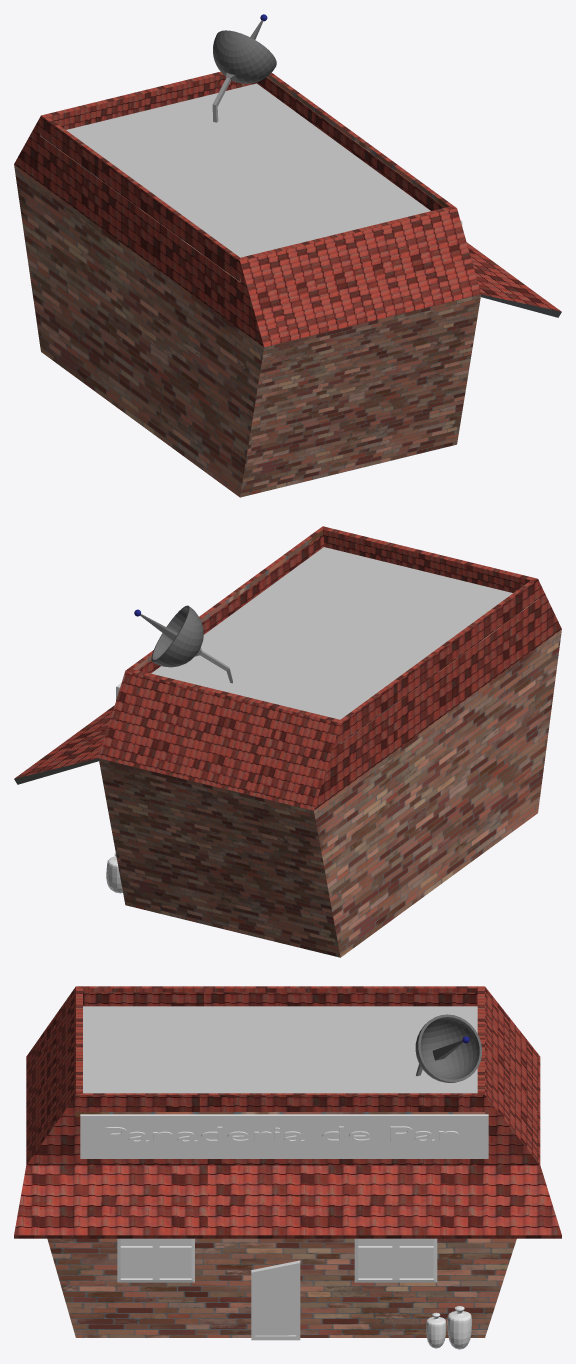
The model's file is panaderiaExterior.fbx.
3 views of the same model, one above another, from view 1: azimuth 30°, elevation 25°; view 2: azimuth 150°, elevation 25°; view 3: azimuth 270°, elevation 25° (orthographic). The views are drawn at different scales.
Visible parts, largest first — view 1: Cubo, Cubo.004, Cube.003; view 2: Cubo, Cubo.004, Cube.003; view 3: Cubo, Cubo.004, Plano, Cubo.001, Cubo.023, Cube.003, Cubo.002, Texto, Cubo.010, Cubo.003.
Part boxes in pixels (bbox=[...]): Cubo: bbox=[14, 71, 561, 347]; Cubo.004: bbox=[14, 164, 480, 497]; Cube.003: bbox=[212, 14, 276, 122]; Cubo: bbox=[14, 526, 561, 810]; Cubo.004: bbox=[98, 629, 561, 957]; Cube.003: bbox=[134, 605, 232, 683]; Cubo: bbox=[14, 986, 561, 1238]; Cubo.004: bbox=[47, 1238, 516, 1337]; Plano: bbox=[80, 1114, 488, 1158]; Cubo.001: bbox=[251, 1260, 300, 1340]; Cubo.023: bbox=[354, 1238, 437, 1282]; Cube.003: bbox=[415, 1014, 481, 1082]; Cubo.002: bbox=[117, 1238, 194, 1282]; Texto: bbox=[104, 1126, 459, 1142]; Cubo.010: bbox=[447, 1306, 471, 1349]; Cubo.003: bbox=[426, 1312, 446, 1348].
Bounding box in the file's own units: 2596 × 2494 × 4100.
